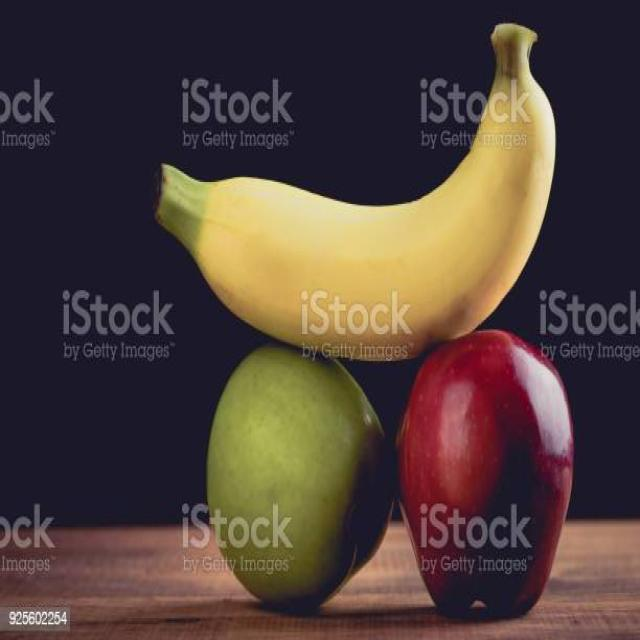Banana: (142, 16, 560, 369)
